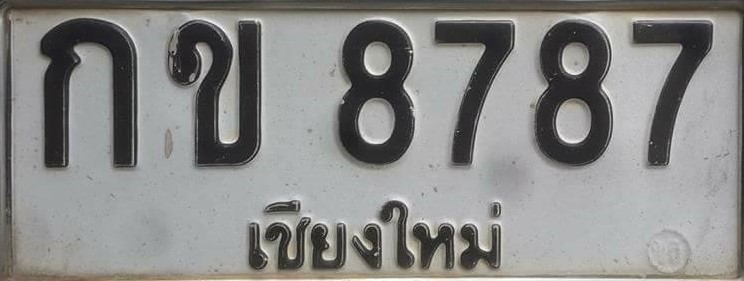txt01: (33, 13, 142, 170)
txt02: (164, 14, 266, 172)
